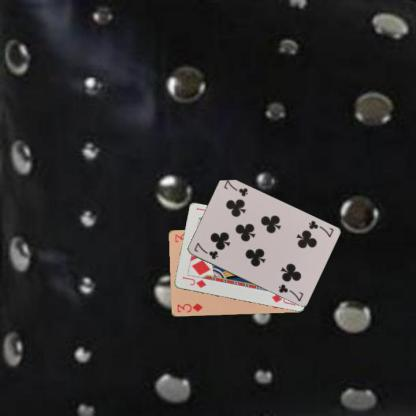3d: (174, 300, 204, 314)
7c: (306, 218, 335, 238), (191, 240, 219, 260)
Jd: (180, 274, 207, 289)
